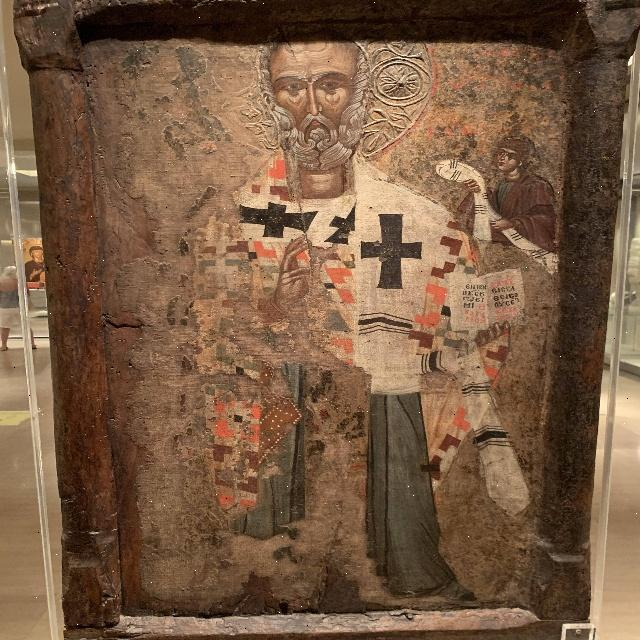aura: (208, 27, 440, 168)
book: (444, 264, 531, 330)
cross: (357, 211, 425, 293)
saint: (181, 16, 450, 610)
